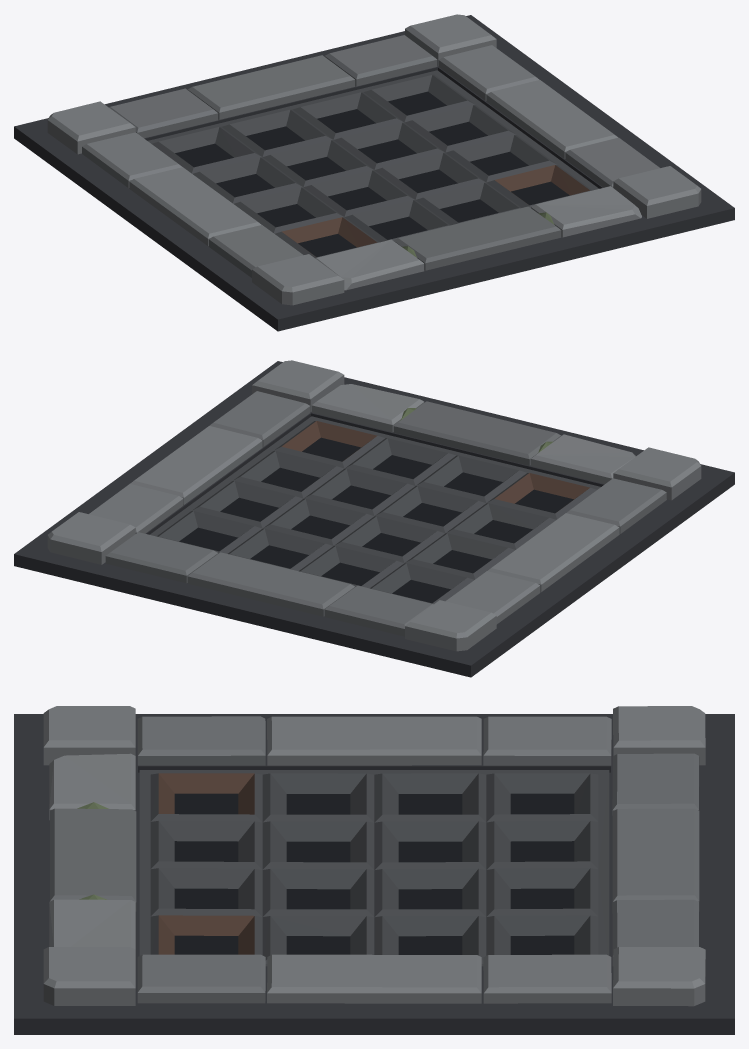
The model's file is stage4_drain_grate_tile.glb.
The picture shows the model from 3 angles, top to bottom: view 1: azimuth 30°, elevation 25°; view 2: azimuth 150°, elevation 25°; view 3: azimuth 270°, elevation 25°; orthographic projection. The views are drawn at different scales.
Parts seen in each view (by area): view 1: drain-grate-tile-body, grate-iron; view 2: drain-grate-tile-body, grate-iron; view 3: drain-grate-tile-body, grate-iron.
Part boxes in pixels (bbox=[...]): drain-grate-tile-body: bbox=[14, 14, 734, 331]; grate-iron: bbox=[148, 70, 598, 258]; drain-grate-tile-body: bbox=[14, 360, 734, 677]; grate-iron: bbox=[150, 416, 600, 604]; drain-grate-tile-body: bbox=[14, 706, 734, 1034]; grate-iron: bbox=[139, 770, 609, 966].
Size of the model in its own units: 2 by 0.1191 by 2.
